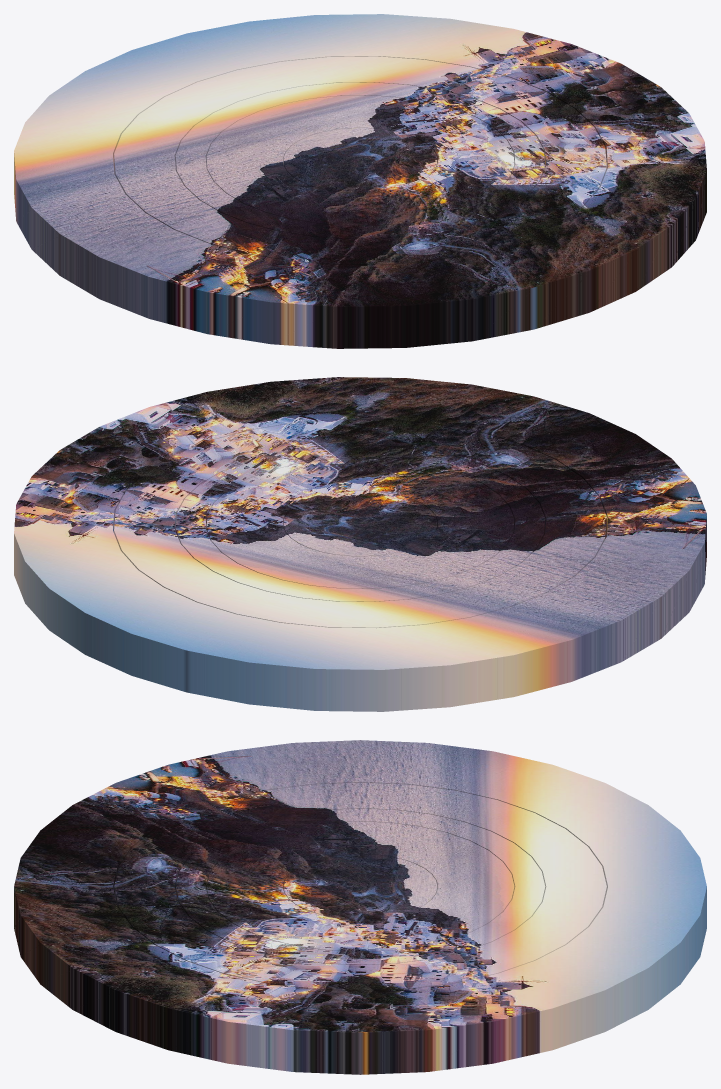
File: puzzle2.fbx
The picture shows the model from 3 angles, top to bottom: view 1: azimuth 30°, elevation 25°; view 2: azimuth 150°, elevation 25°; view 3: azimuth 270°, elevation 25°; orthographic projection.
Visible parts, largest first — view 1: Face4, Face3, Face1, Face2, Center; view 2: Face4, Face3, Face1, Face2, Center; view 3: Face4, Face3, Face1, Face2, Center.
Boxes of the visible parts, left/top/right/bottom form: Face4: left=14, top=14, right=706, bottom=348; Face3: left=114, top=56, right=606, bottom=265; Face1: left=206, top=95, right=514, bottom=225; Face2: left=175, top=82, right=545, bottom=238; Center: left=283, top=128, right=437, bottom=193; Face4: left=14, top=377, right=706, bottom=711; Face3: left=114, top=419, right=606, bottom=628; Face1: left=206, top=458, right=514, bottom=588; Face2: left=175, top=445, right=545, bottom=601; Center: left=283, top=491, right=437, bottom=556; Face4: left=14, top=740, right=706, bottom=1074; Face3: left=114, top=782, right=606, bottom=991; Face1: left=206, top=821, right=514, bottom=951; Face2: left=175, top=808, right=545, bottom=964; Center: left=283, top=854, right=437, bottom=919.
Size of the model in its own units: 900 by 63.69 by 900.
1 material, 1 textured.
